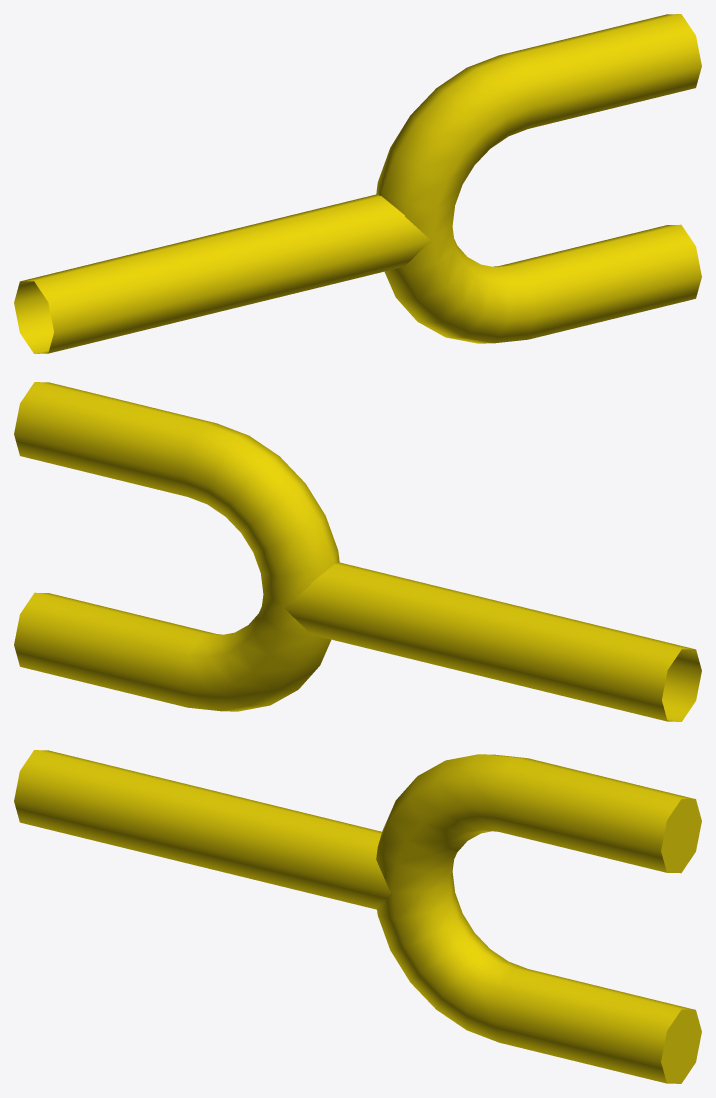
File: lever2.fbx
3 renders of one model, top to bottom at view 1: azimuth 30°, elevation 25°; view 2: azimuth 150°, elevation 25°; view 3: azimuth 330°, elevation 25°, orthographic.
Visible parts, largest first — view 1: lever2; view 2: lever2; view 3: lever2.
Part boxes in pixels (x1,y1,x2,y2): lever2: (14, 14, 701, 353); lever2: (14, 382, 701, 721); lever2: (14, 750, 701, 1083).
Bounding box in the file's own units: 0.3858 × 0.1623 × 0.0423.
